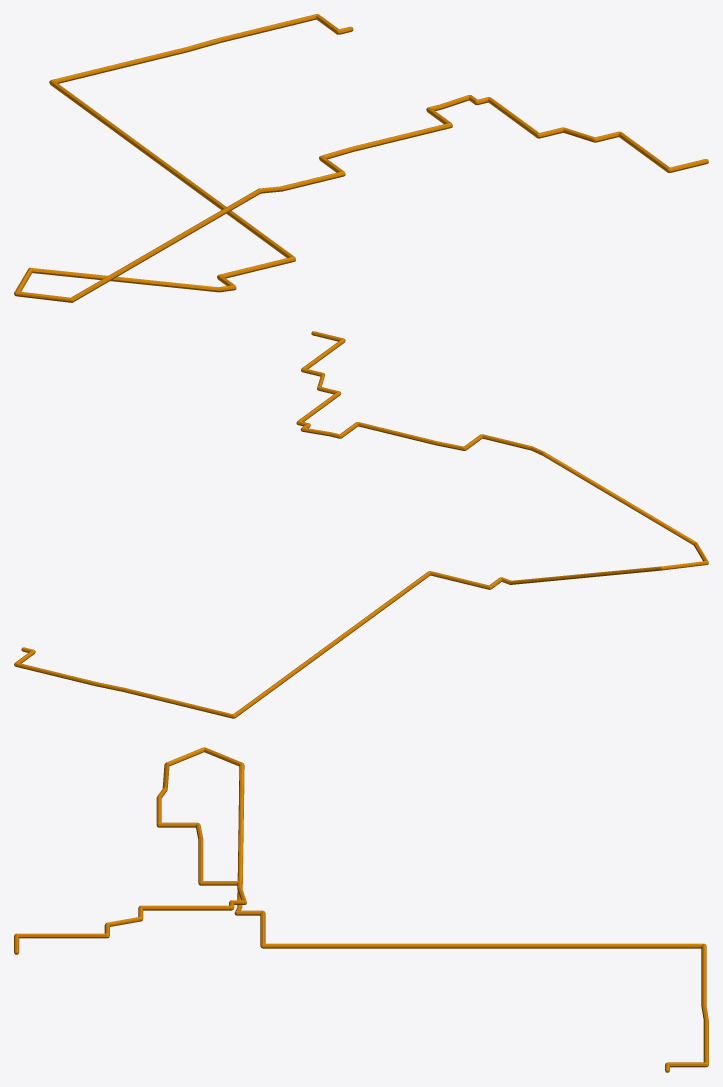
The picture shows the model from 3 angles, top to bottom: view 1: azimuth 30°, elevation 25°; view 2: azimuth 150°, elevation 25°; view 3: azimuth 270°, elevation 25°; orthographic projection. The views are drawn at different scales.
Size of the model in its own units: 2409 by 520 by 2679.
